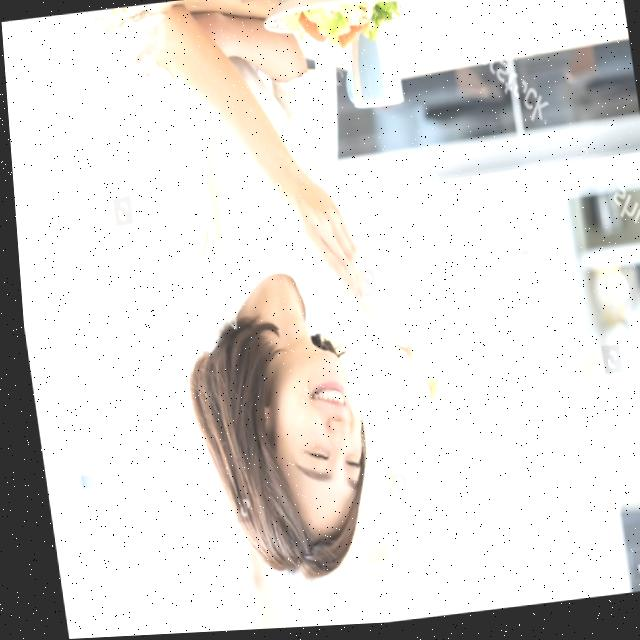eating-person: (61, 0, 492, 613)
